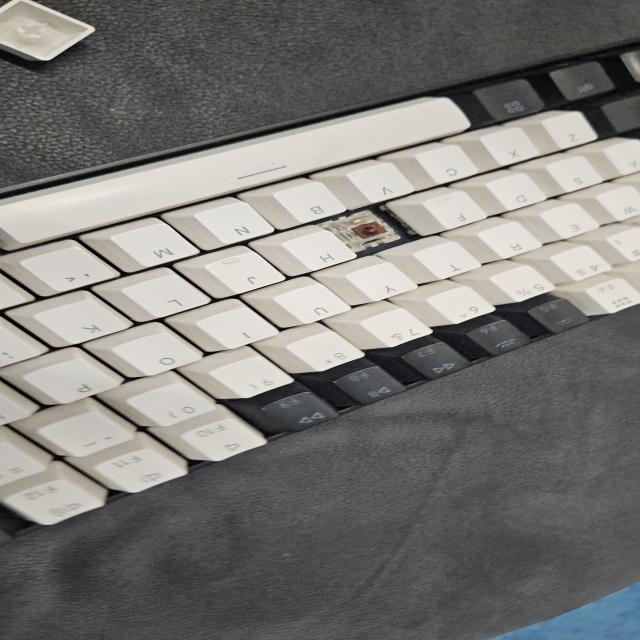C: (335, 210, 397, 246)
